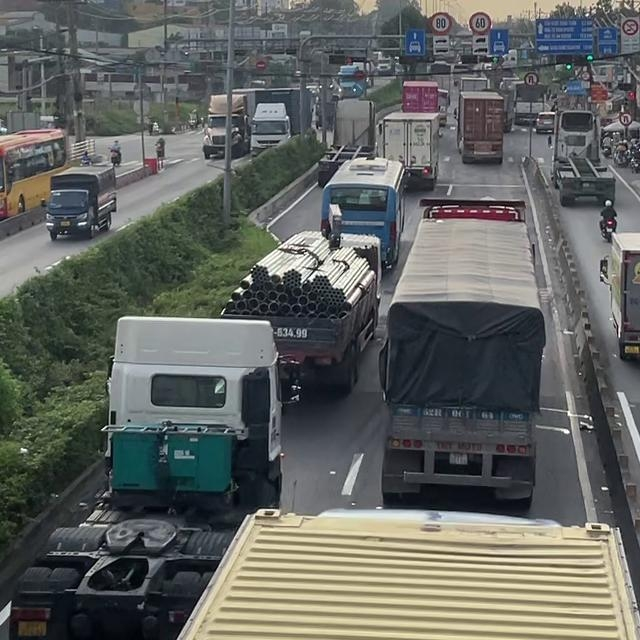bus: (320, 156, 408, 271), (0, 127, 68, 221)
car: (535, 111, 555, 133)
motorcycle: (598, 215, 616, 242), (108, 148, 121, 166), (154, 142, 164, 160), (187, 115, 198, 129)
truck: (0, 316, 278, 640), (175, 507, 639, 639), (377, 201, 546, 503), (218, 229, 382, 394), (552, 109, 616, 204), (43, 162, 117, 240), (374, 111, 441, 190), (599, 231, 639, 361), (319, 102, 375, 191), (250, 86, 310, 158), (455, 90, 504, 164), (202, 93, 249, 159), (514, 82, 548, 125), (401, 80, 439, 118), (459, 76, 489, 92)
